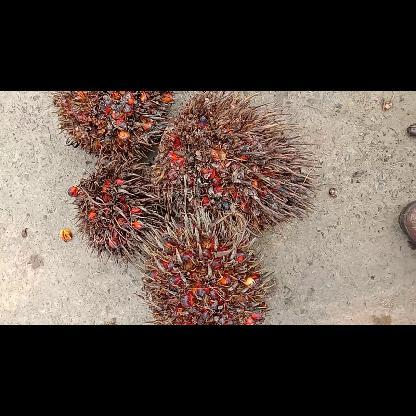Terlalu masak: (148, 91, 320, 243), (136, 206, 274, 324), (71, 154, 171, 270), (48, 90, 172, 160)
